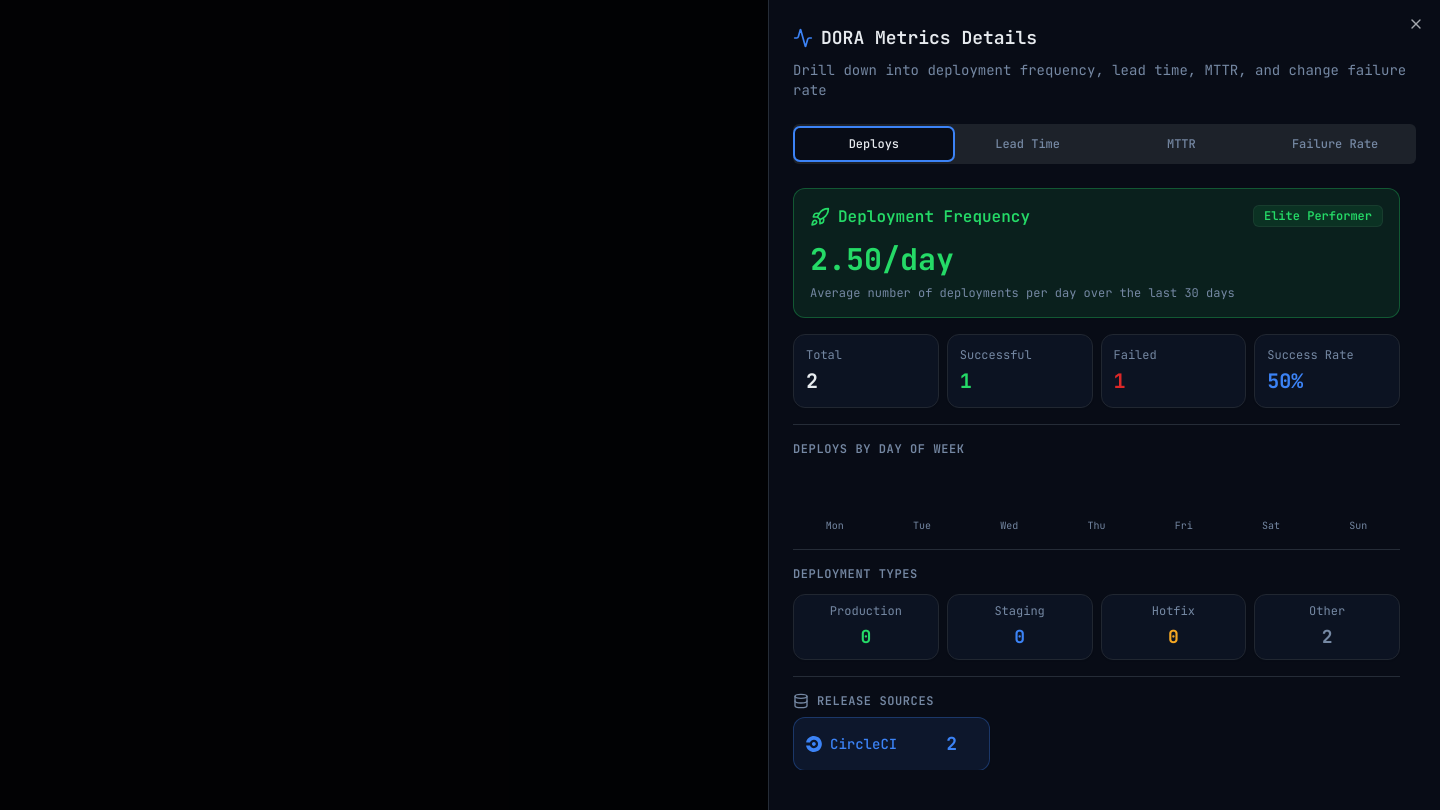
DeploymentFrequencyDetail - Filtering › Status filtering › should reset filters when clicking Total card
The width and height of the screenshot is (1440, 810).
First filter by successful
Click the button "Successful 1" at (1020, 371), box [947, 334, 1093, 408]
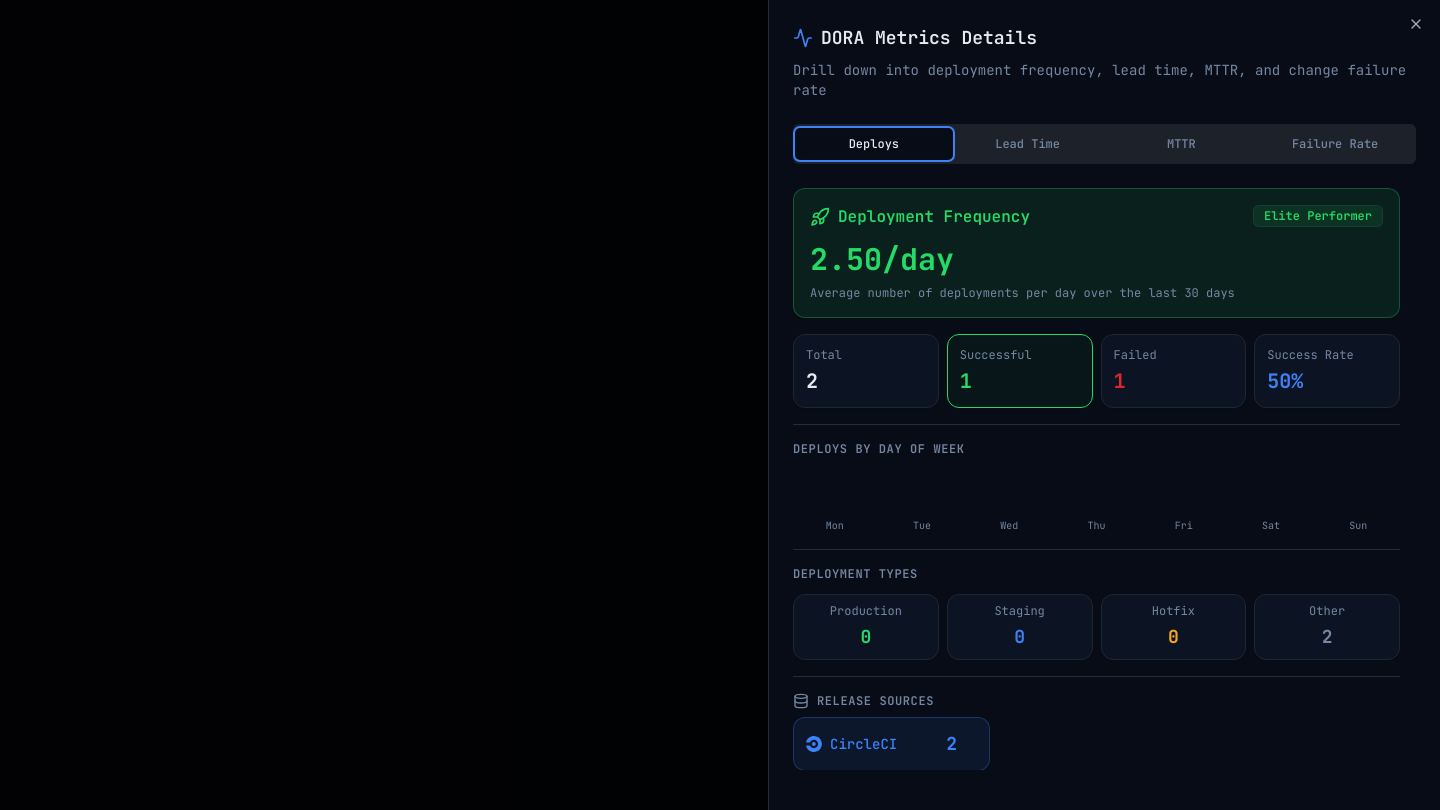
Expected: the text "deployment 2" is not shown
Then click Total to reset
Click the button "Total 2" at (866, 371), box [793, 334, 939, 408]
(page scrolled)
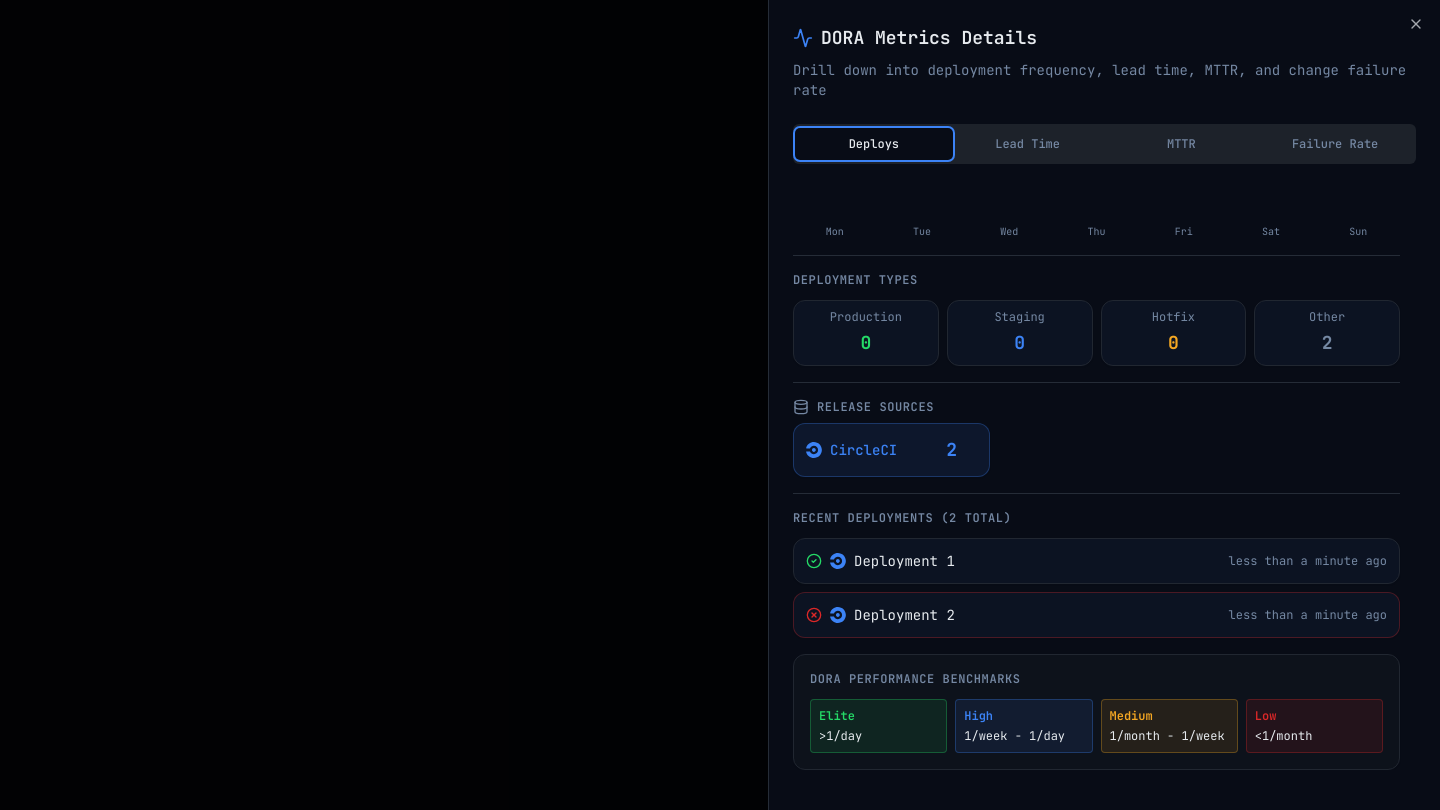
Expected: the text "Deployment 1" is shown, [854, 551, 955, 571]
Expected: the text "Deployment 2" is shown, [854, 605, 955, 625]
